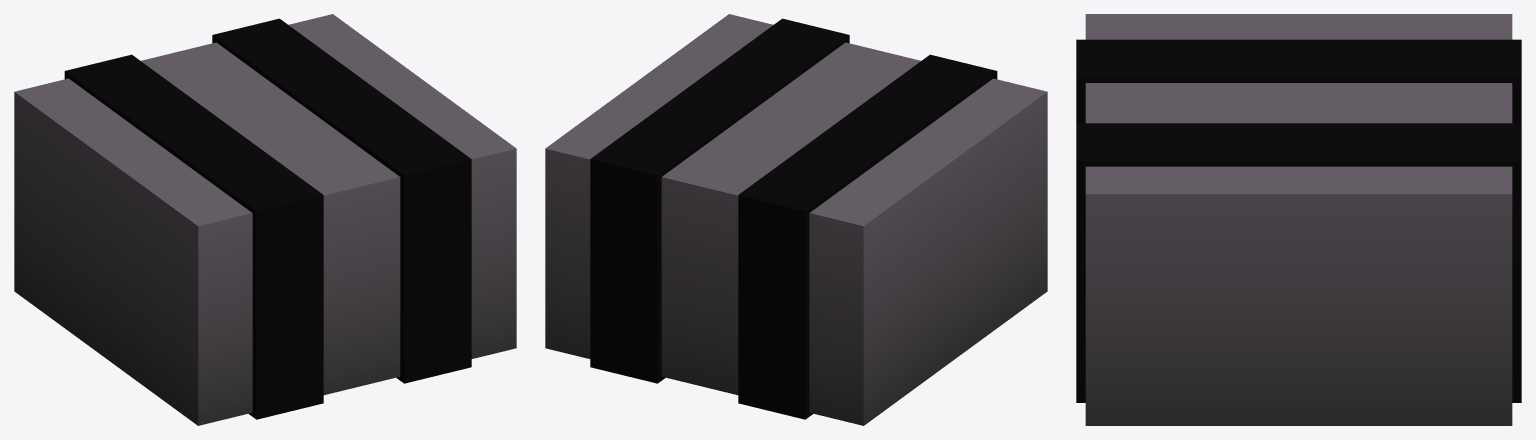
File: Stealth Cardbox.glb
3 views of the same model, side by side, from view 1: azimuth 30°, elevation 25°; view 2: azimuth 150°, elevation 25°; view 3: azimuth 270°, elevation 25° (orthographic). The views are drawn at different scales.
Visible parts, largest first — view 1: Cube, Cube.002, Cube.001; view 2: Cube, Cube.002, Cube.001; view 3: Cube, Cube.002, Cube.001.
Boxes of the visible parts, x1,y1,x2,y2 form: Cube: (14, 14, 516, 425); Cube.002: (212, 18, 471, 383); Cube.001: (64, 54, 323, 419); Cube: (545, 14, 1047, 425); Cube.002: (590, 18, 849, 383); Cube.001: (738, 54, 997, 419); Cube: (1085, 14, 1512, 425); Cube.002: (1076, 123, 1521, 402); Cube.001: (1076, 39, 1521, 123).
Size of the model in its own units: 2 by 1.25 by 2.09.
3 materials, 1 textured.
